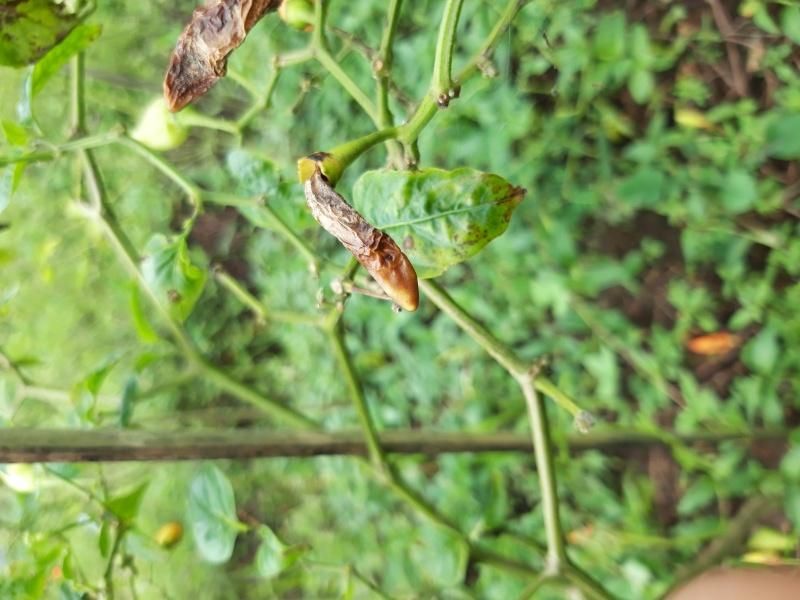antraknosa: (306, 172, 418, 312), (164, 0, 276, 112)
